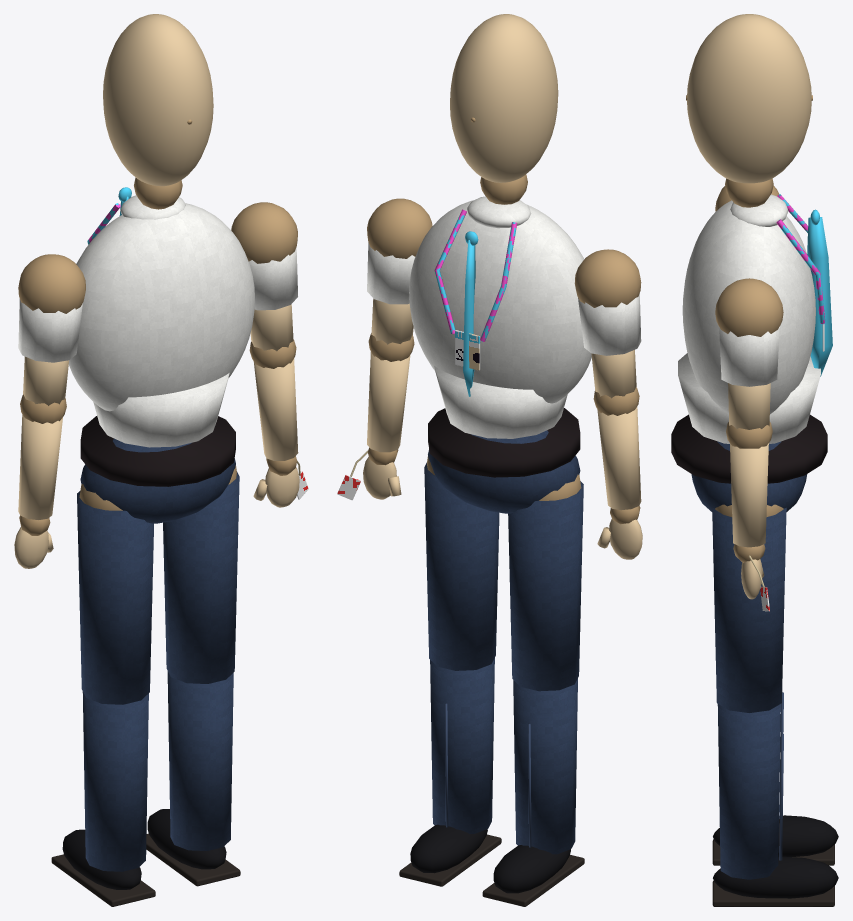
Rendered from c_mannequin.glb.
3 views of the same model, side by side, from view 1: azimuth 30°, elevation 25°; view 2: azimuth 150°, elevation 25°; view 3: azimuth 270°, elevation 25° (orthographic). The views are drawn at different scales.
Parts seen in each view (by area): view 1: part_spine, part_head, part_legL, part_kneeL, part_kneeR, part_legR, part_body, part_armL, part_arm, part_foreL, part_foreR, part_handR (+1 smaller); view 2: part_spine, part_head, part_kneeR, part_kneeL, part_legL, part_legR, part_body, part_armL, part_arm, part_foreL, part_foreR, part_handR (+1 smaller); view 3: part_spine, part_head, part_kneeR, part_legR, part_arm, part_body, part_foreR, part_kneeL, part_handR.
Part boxes in pixels (bbox=[...]): part_spine: bbox=[68, 187, 254, 447]; part_head: bbox=[103, 14, 213, 209]; part_legL: bbox=[77, 484, 153, 704]; part_kneeL: bbox=[51, 691, 155, 906]; part_kneeR: bbox=[146, 671, 240, 886]; part_legR: bbox=[163, 465, 239, 683]; part_body: bbox=[80, 416, 235, 523]; part_armL: bbox=[18, 254, 85, 405]; part_arm: bbox=[231, 202, 297, 351]; part_foreL: bbox=[18, 394, 66, 535]; part_foreR: bbox=[249, 339, 298, 475]; part_handR: bbox=[253, 460, 308, 507]; part_spine: bbox=[409, 196, 591, 438]; part_head: bbox=[450, 14, 558, 204]; part_kneeR: bbox=[399, 658, 501, 886]; part_kneeL: bbox=[482, 678, 584, 906]; part_legL: bbox=[508, 474, 583, 691]; part_legR: bbox=[424, 457, 499, 670]; part_body: bbox=[428, 408, 580, 513]; part_armL: bbox=[574, 249, 641, 398]; part_arm: bbox=[367, 198, 432, 344]; part_foreL: bbox=[593, 387, 641, 524]; part_foreR: bbox=[367, 333, 414, 465]; part_handR: bbox=[337, 450, 401, 500]; part_spine: bbox=[678, 194, 832, 443]; part_head: bbox=[686, 14, 812, 207]; part_kneeR: bbox=[712, 704, 838, 906]; part_legR: bbox=[712, 504, 786, 712]; part_arm: bbox=[715, 278, 783, 429]; part_body: bbox=[671, 414, 827, 512]; part_foreR: bbox=[726, 421, 772, 562]; part_kneeL: bbox=[712, 692, 838, 865]; part_handR: bbox=[741, 555, 769, 611].
Bounding box in the file's own units: 0.7131 × 1.94 × 0.343.
Materials: 13 (5 with a texture image).
